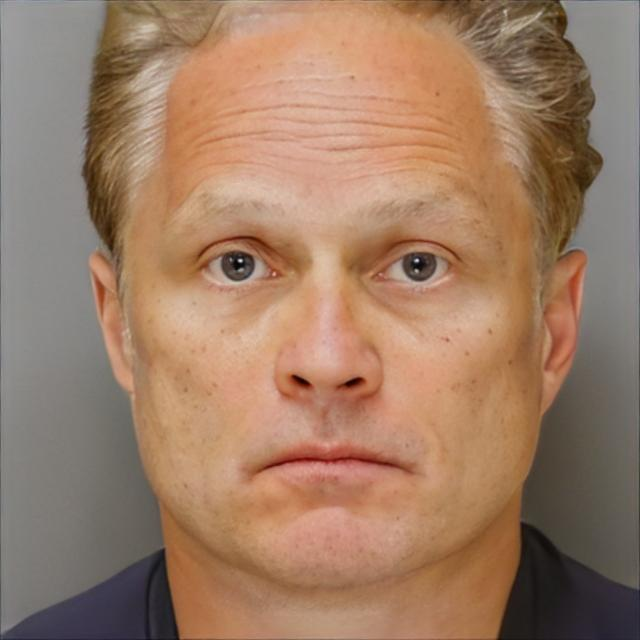surprise: (127, 0, 546, 589)
